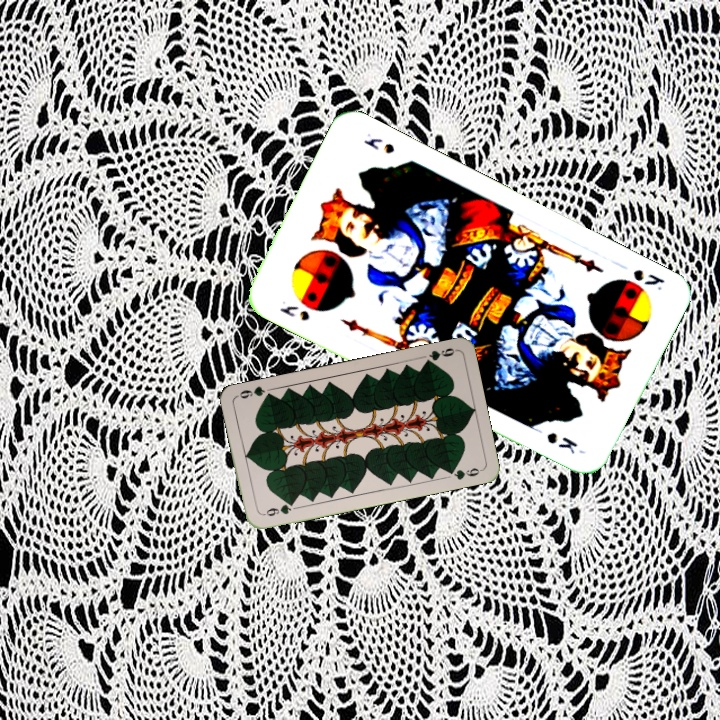G9: (420, 344, 459, 368), (259, 498, 297, 519)
SK: (629, 265, 668, 294), (275, 301, 313, 324)
